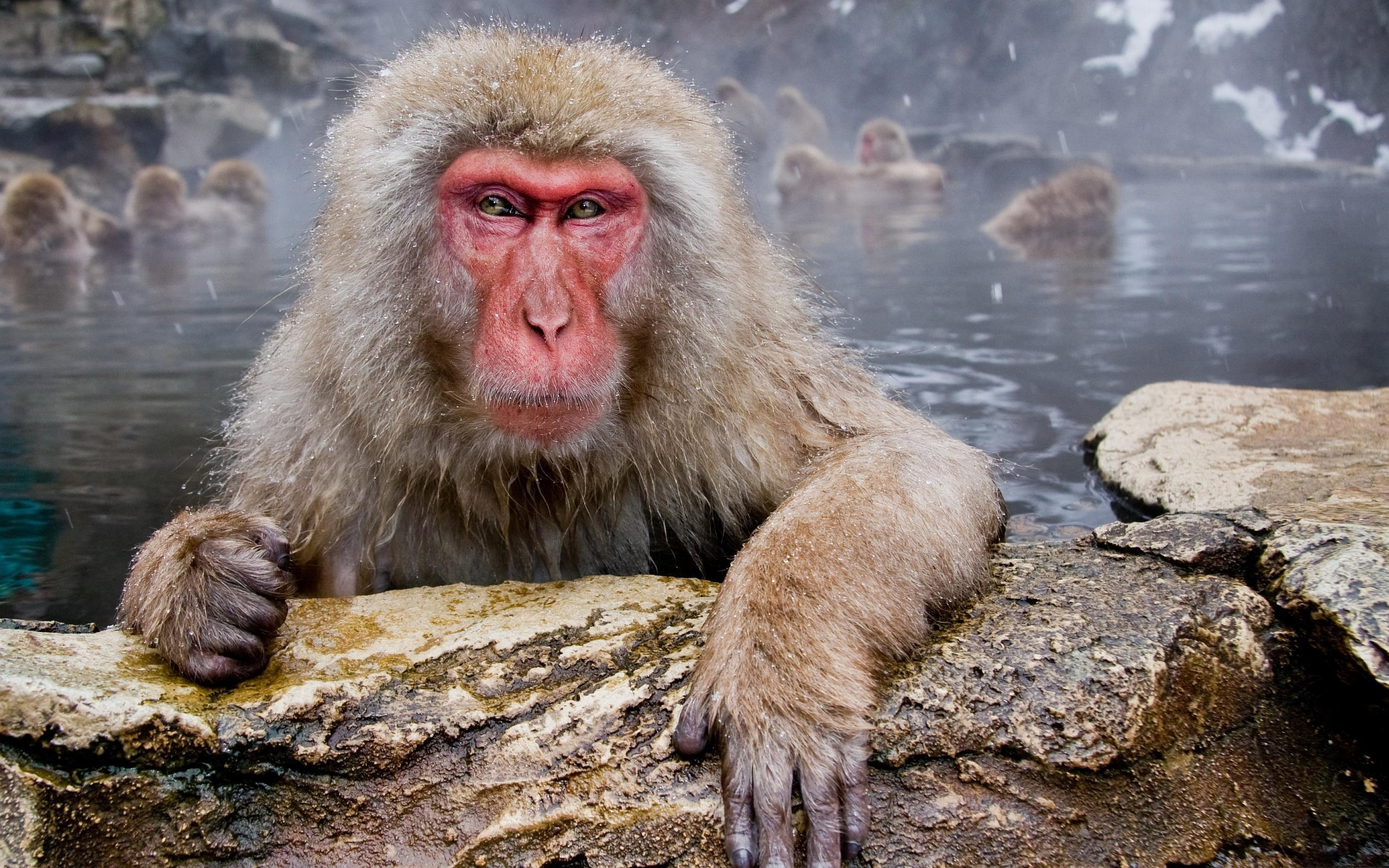monkey: (119, 29, 1008, 868)
